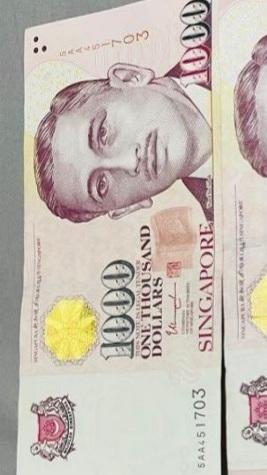1000SingaporeDollar: (25, 0, 220, 475)
